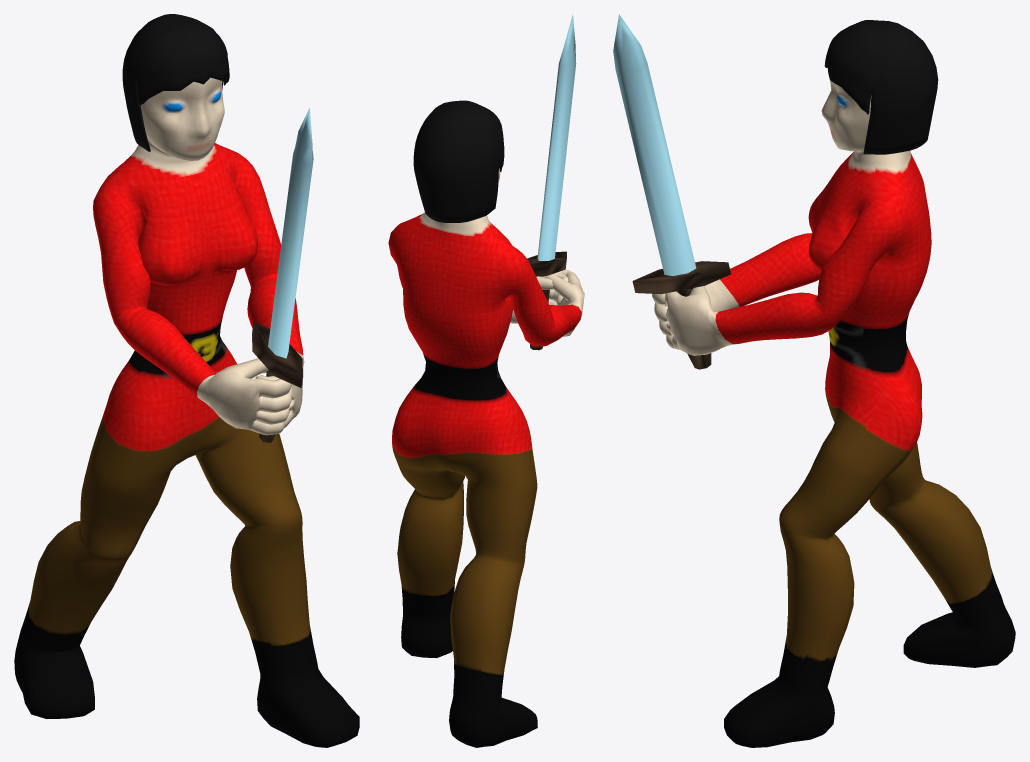
The model's file is Player04Menus.dae.
3 renders of one model, left to right at view 1: azimuth 30°, elevation 25°; view 2: azimuth 150°, elevation 25°; view 3: azimuth 270°, elevation 25°, orthographic. The views are drawn at different scales.
Parts seen in each view (by area): view 1: Player04ForMenus; view 2: Player04ForMenus; view 3: Player04ForMenus.
Part boxes in pixels (left/top/right/bottom): Player04ForMenus: left=14, top=14, right=359, bottom=747; Player04ForMenus: left=388, top=14, right=584, bottom=747; Player04ForMenus: left=613, top=14, right=1015, bottom=747.
Bounding box in the file's own units: 0.6833 × 1.04 × 1.95.
Materials: 4 (1 with a texture image).
